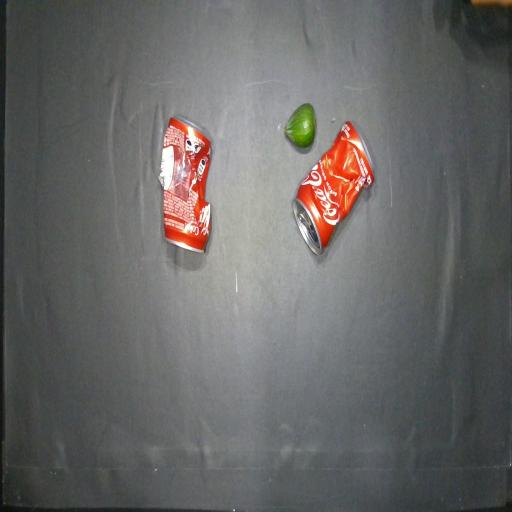higo: (285, 103, 316, 148)
lata_defectuoso: (293, 121, 374, 255), (159, 118, 211, 251)
